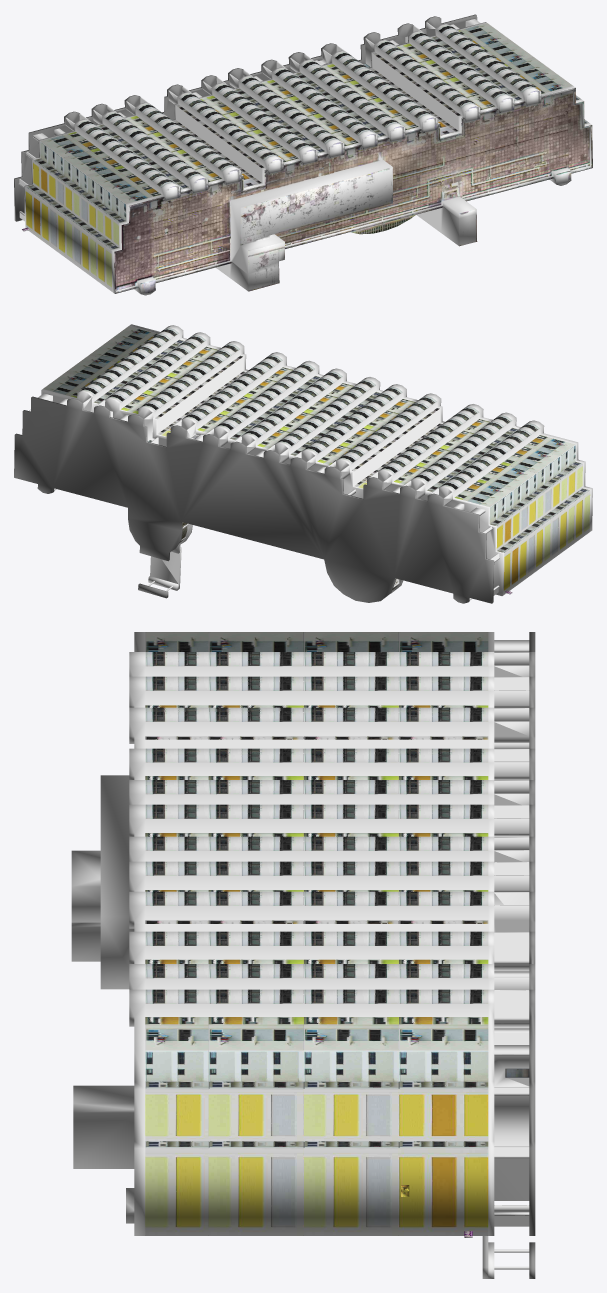
File: amk_blk348_building.obj
3 renders of one model, top to bottom at view 1: azimuth 30°, elevation 25°; view 2: azimuth 150°, elevation 25°; view 3: azimuth 270°, elevation 25°, orthographic. The views are drawn at different scales.
Visible parts, largest first — view 1: polygon.820; view 2: polygon.820; view 3: polygon.820.
Boxes of the visible parts, x1,y1,x2,y2 form: polygon.820: [14, 14, 592, 295]; polygon.820: [14, 324, 592, 603]; polygon.820: [71, 632, 535, 1278].
Bounding box in the file's own units: 96.84 × 33.27 × 39.73.
1 material, 1 textured.
